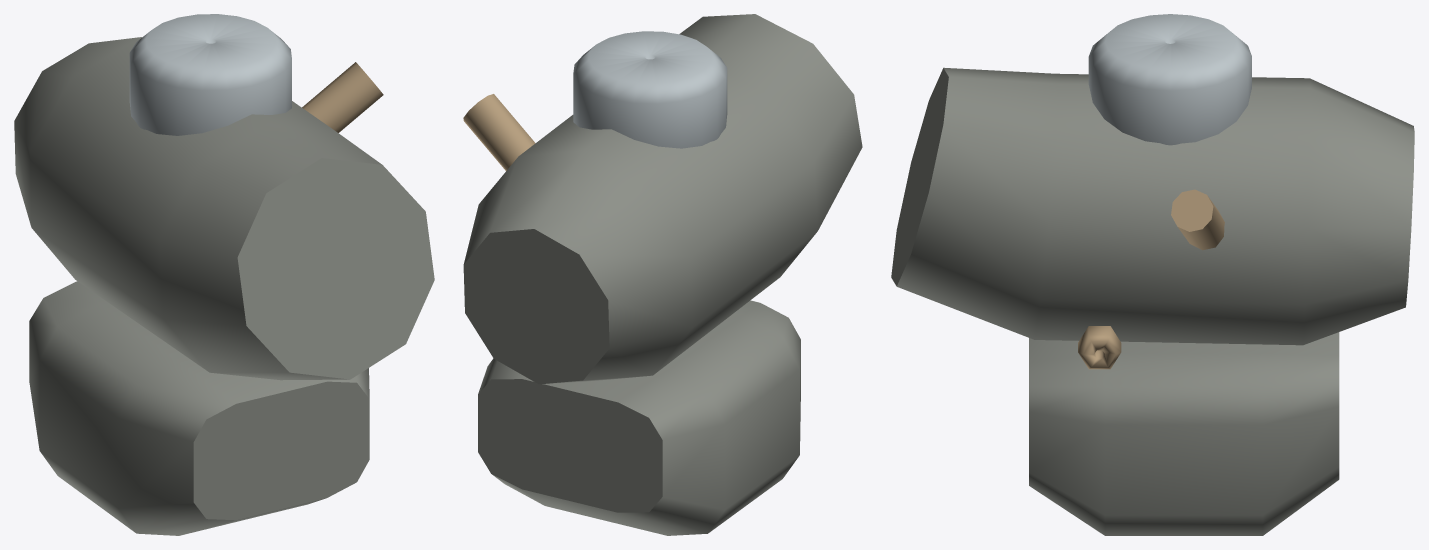
Rendered from SB50-carburetor-stock.glb.
3 views of the same model, side by side, from view 1: azimuth 30°, elevation 25°; view 2: azimuth 150°, elevation 25°; view 3: azimuth 270°, elevation 25° (orthographic). The views are drawn at different scales.
Parts seen in each view (by area): view 1: SB50-carburetor-stock; view 2: SB50-carburetor-stock; view 3: SB50-carburetor-stock.
Boxes of the visible parts, box(x1,y1,x2,y2) form: SB50-carburetor-stock: box(14, 14, 434, 535); SB50-carburetor-stock: box(463, 14, 862, 535); SB50-carburetor-stock: box(891, 14, 1414, 535).
Bounding box in the file's own units: 0.0648 × 0.0922 × 0.0962.
